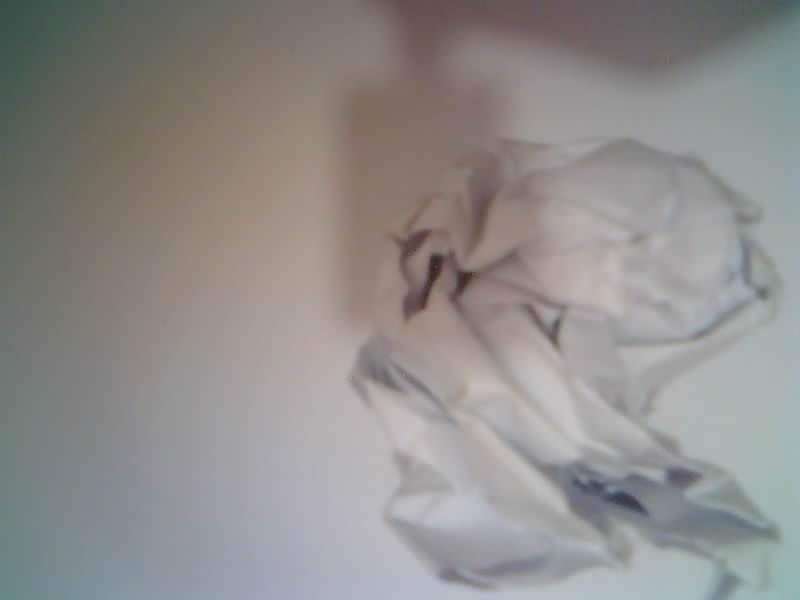biodegradable: (351, 140, 780, 599)
